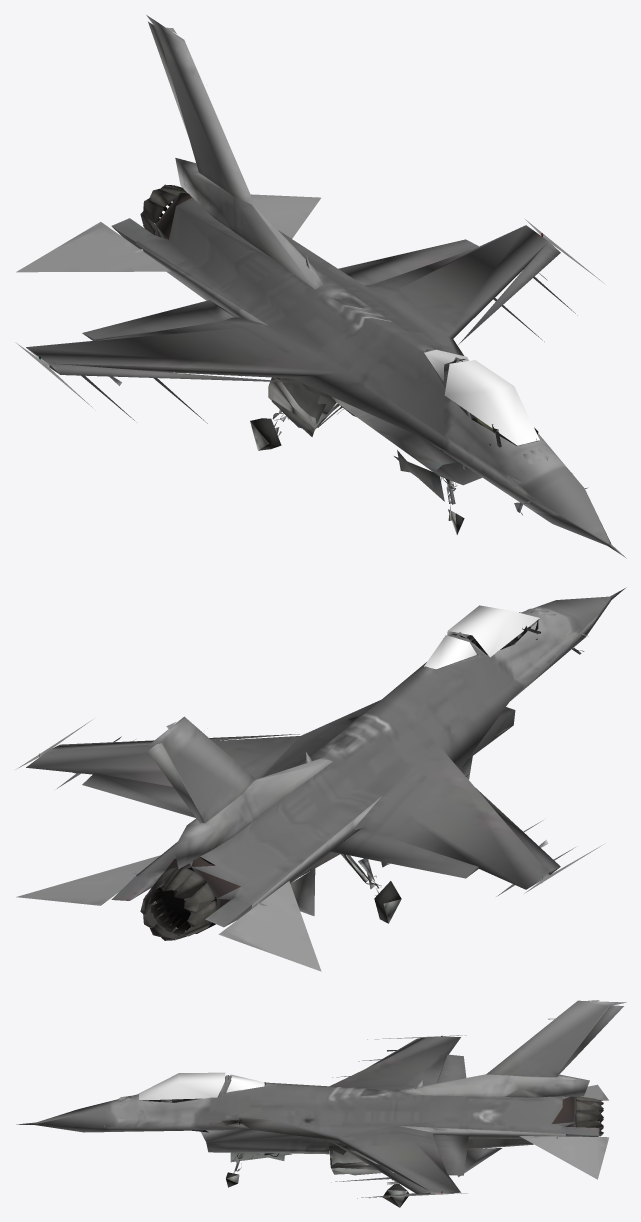
Rendered from jet_f16_lod1.glb.
3 views of the same model, one above another, from view 1: azimuth 30°, elevation 25°; view 2: azimuth 150°, elevation 25°; view 3: azimuth 270°, elevation 25° (orthographic). The views are drawn at different scales.
Parts seen in each view (by area): view 1: LOD1; view 2: LOD1; view 3: LOD1.
Boxes of the visible parts, x1=… form: LOD1: x1=15, y1=15, x2=626, y2=558; LOD1: x1=15, y1=587, x2=626, y2=971; LOD1: x1=16, y1=1000, x2=626, y2=1207.
Bounding box in the file's own units: 9.25 × 5.09 × 15.08.
Materials: 2 (1 with a texture image).
